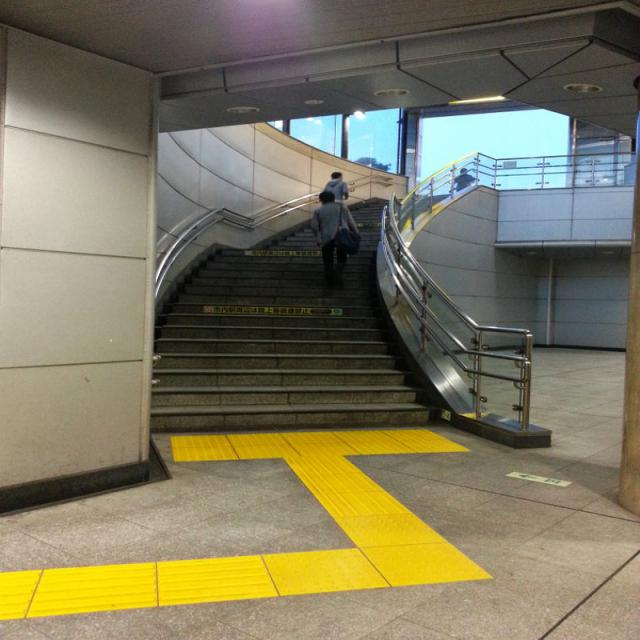tactile-guide-path: (0, 554, 280, 618), (263, 516, 492, 594), (172, 429, 470, 460), (283, 455, 422, 518)
